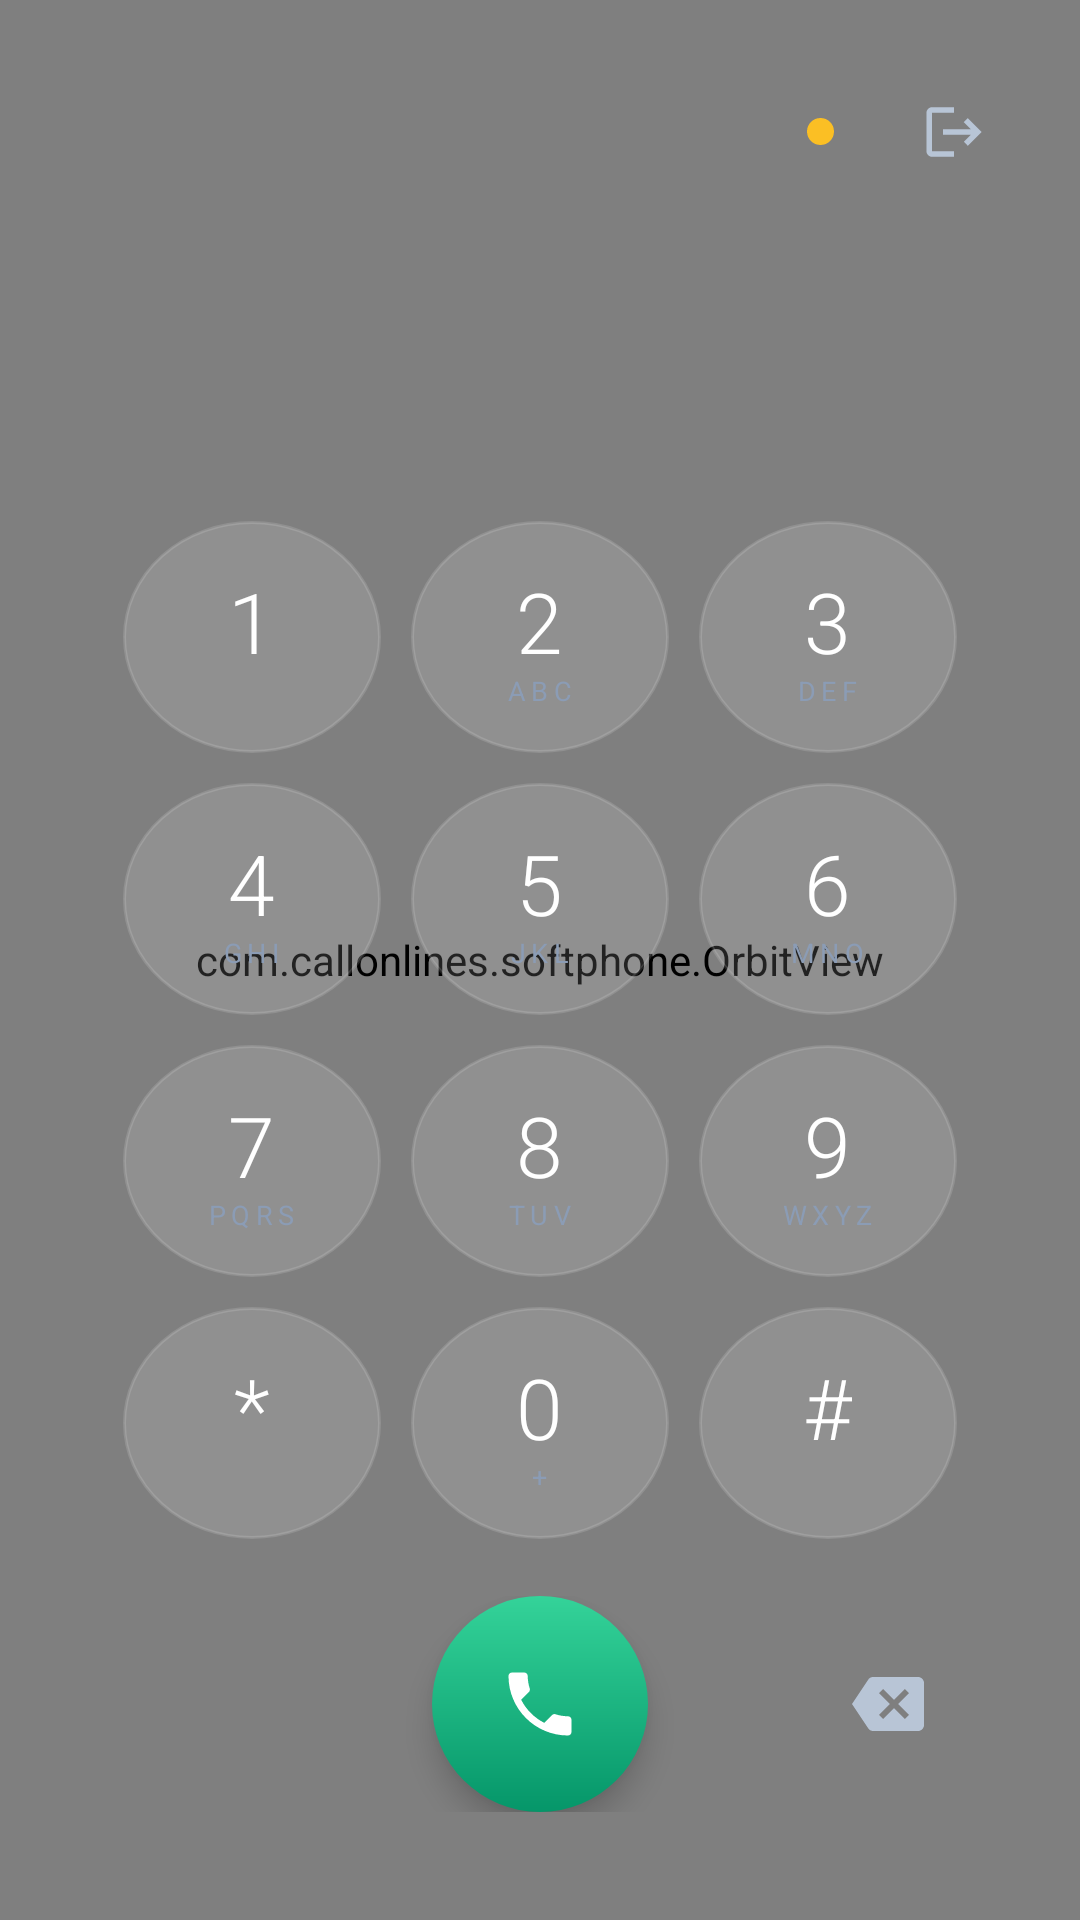

Point at icon controls on the screen. Image size 1080 × 1920, points as point (x, y).
Borrar: point (888, 1704)
Llamar: point (540, 1704)
